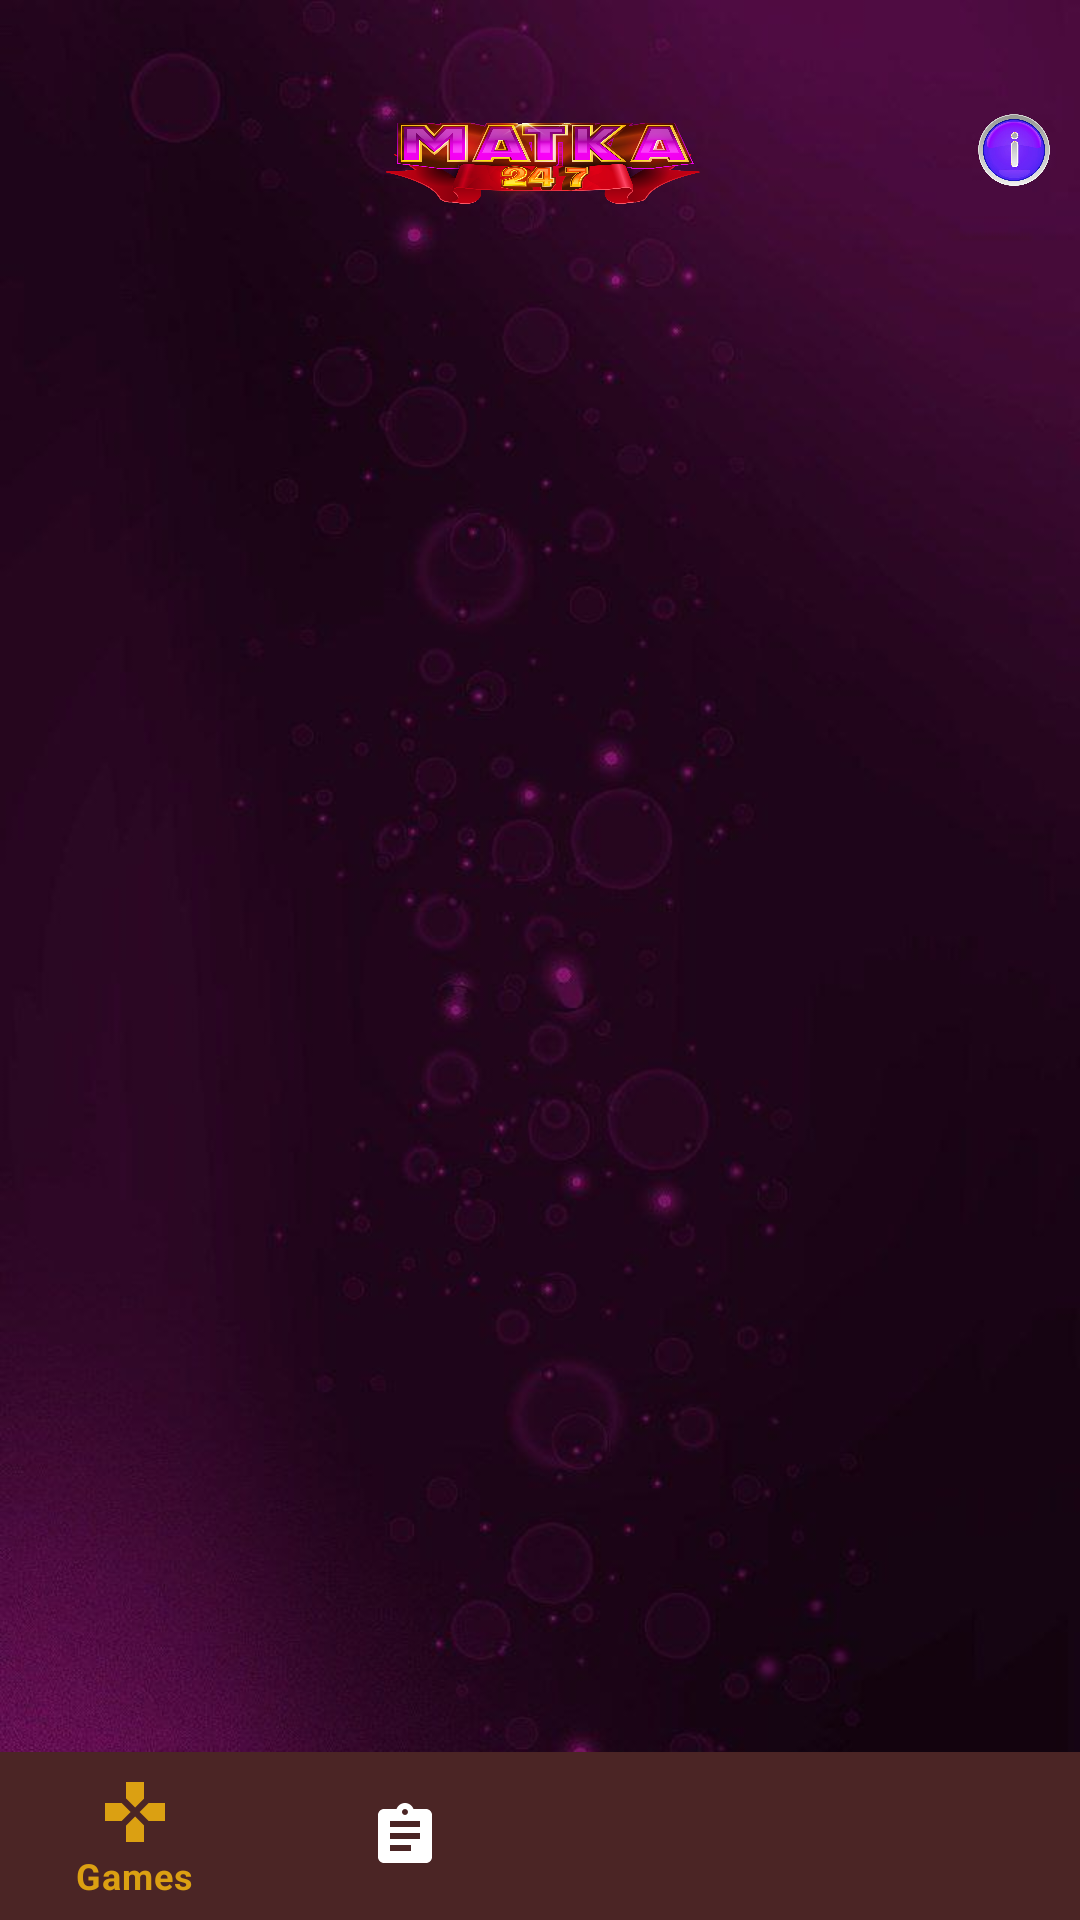

Point at icon controls on the screen. Image size 1080 × 1920, points as point (x, y).
info: point (1014, 150)
